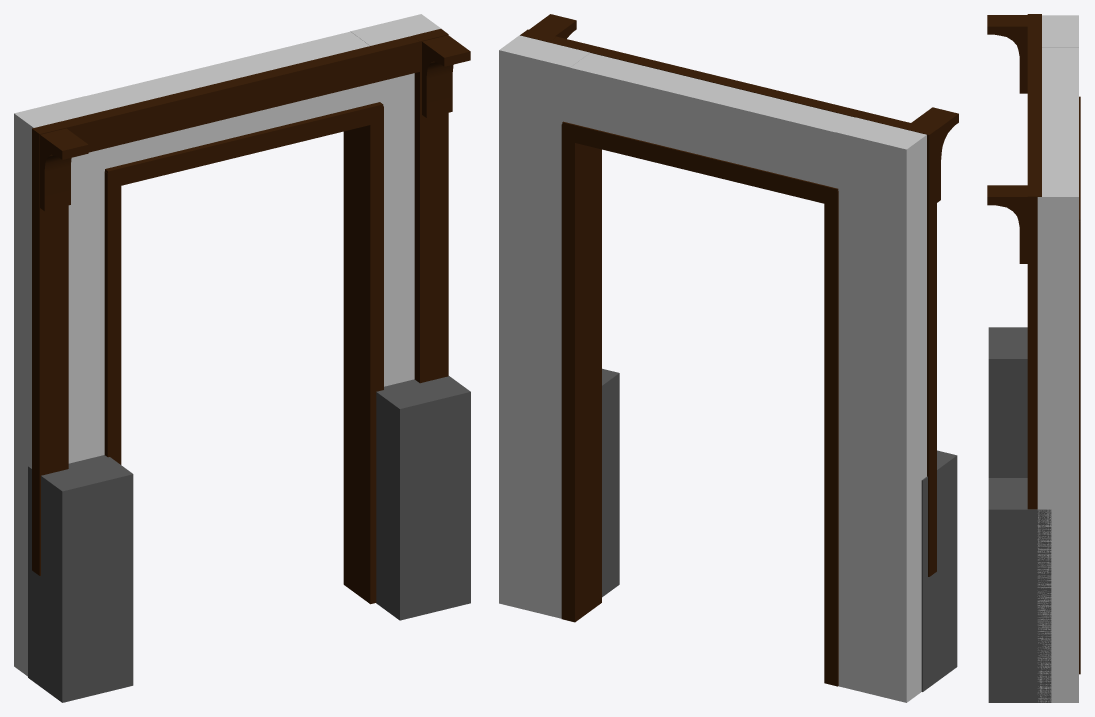
File: MaisRich_porte_sol.fbx
The picture shows the model from 3 angles, left to right: view 1: azimuth 30°, elevation 25°; view 2: azimuth 150°, elevation 25°; view 3: azimuth 270°, elevation 25°; orthographic projection. The views are drawn at different scales.
Visible parts, largest first — view 1: pCube76; view 2: pCube76; view 3: pCube76.
Boxes of the visible parts, bbox=[...] form: pCube76: bbox=[14, 14, 470, 702]; pCube76: bbox=[499, 14, 958, 702]; pCube76: bbox=[987, 14, 1080, 702].
Bounding box in the file's own units: 30.43 × 39.27 × 6.59.
